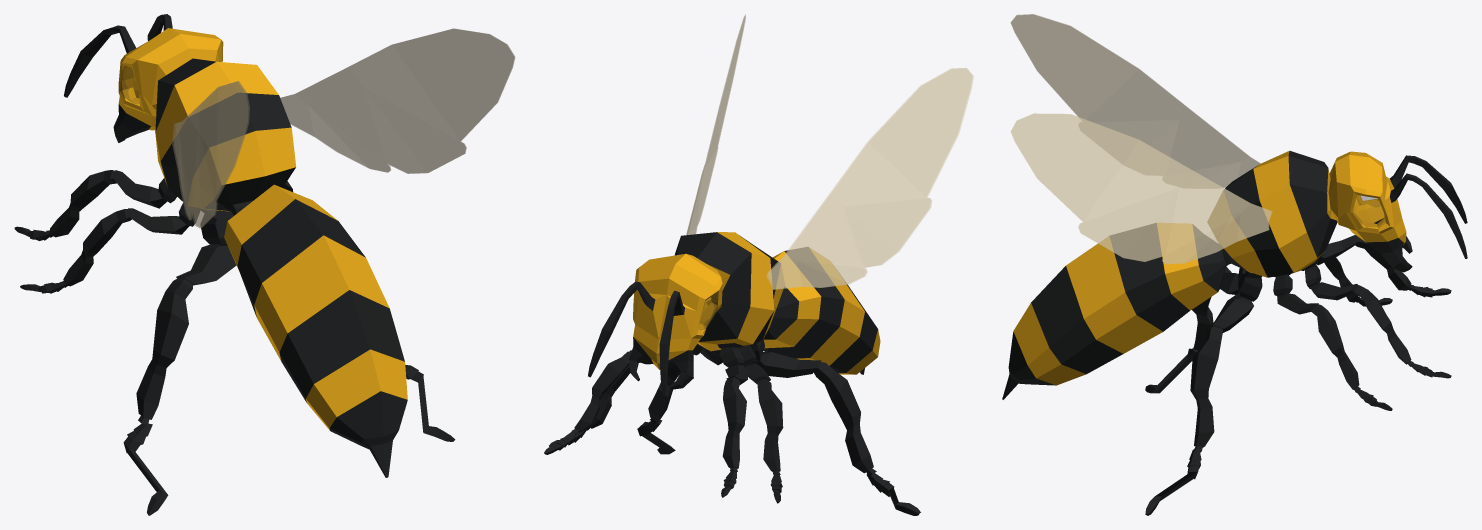
Rendered from Bee.glb.
The picture shows the model from 3 angles, left to right: view 1: azimuth 30°, elevation 25°; view 2: azimuth 150°, elevation 25°; view 3: azimuth 270°, elevation 25°; orthographic projection. The views are drawn at different scales.
Parts seen in each view (by area): view 1: beehive.006; view 2: beehive.006; view 3: beehive.006.
Part boxes in pixels (x1,y1,x2,y2): beehive.006: (14,14,515,515); beehive.006: (544,14,973,515); beehive.006: (1002,14,1467,515).
Size of the model in its own units: 0.6564 by 0.9512 by 1.03.
Materials: 3 (3 with a texture image).
